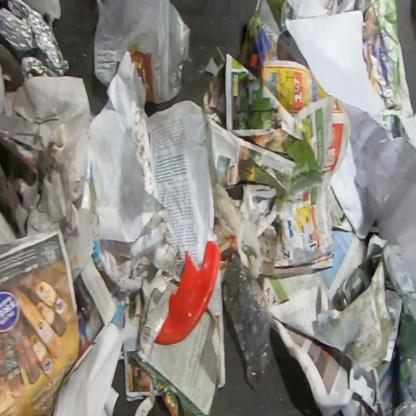cardboard: (128, 273, 219, 415)
metal: (0, 0, 70, 82)
rigid_plastic: (153, 240, 223, 346), (222, 250, 273, 392), (392, 314, 415, 415)
soft_plastic: (92, 0, 192, 106), (20, 0, 62, 34), (0, 63, 6, 119)
